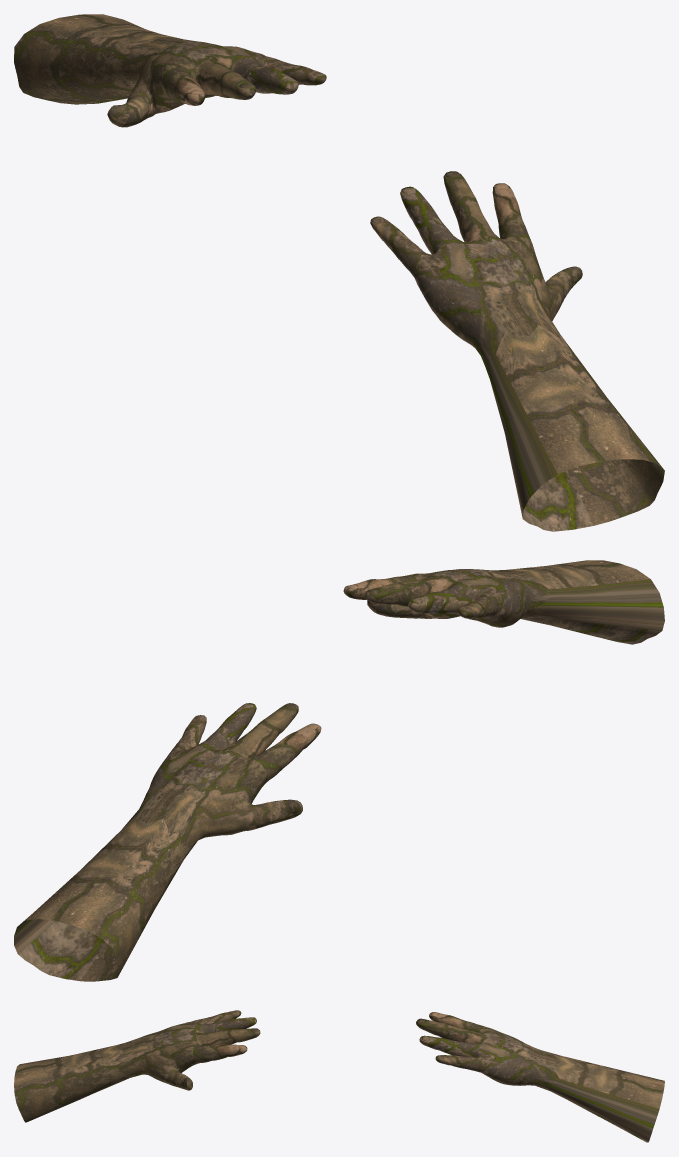
Rendered from hands_000016.obj.
The picture shows the model from 3 angles, top to bottom: view 1: azimuth 30°, elevation 25°; view 2: azimuth 150°, elevation 25°; view 3: azimuth 270°, elevation 25°; orthographic projection. The views are drawn at different scales.
Visible parts, largest first — view 1: hand.001_Mesh.001, hand_Mesh; view 2: hand_Mesh, hand.001_Mesh.001; view 3: hand_Mesh, hand.001_Mesh.001.
Boxes of the visible parts, x1,y1,x2,y2 form: hand.001_Mesh.001: (370,171,664,531); hand_Mesh: (14,14,326,127); hand_Mesh: (14,703,321,981); hand.001_Mesh.001: (343,560,664,644); hand_Mesh: (416,1012,664,1142); hand.001_Mesh.001: (14,1010,260,1122).
Bounding box in the file's own units: 1.58 × 1.44 × 7.98.
1 material, 1 textured.
